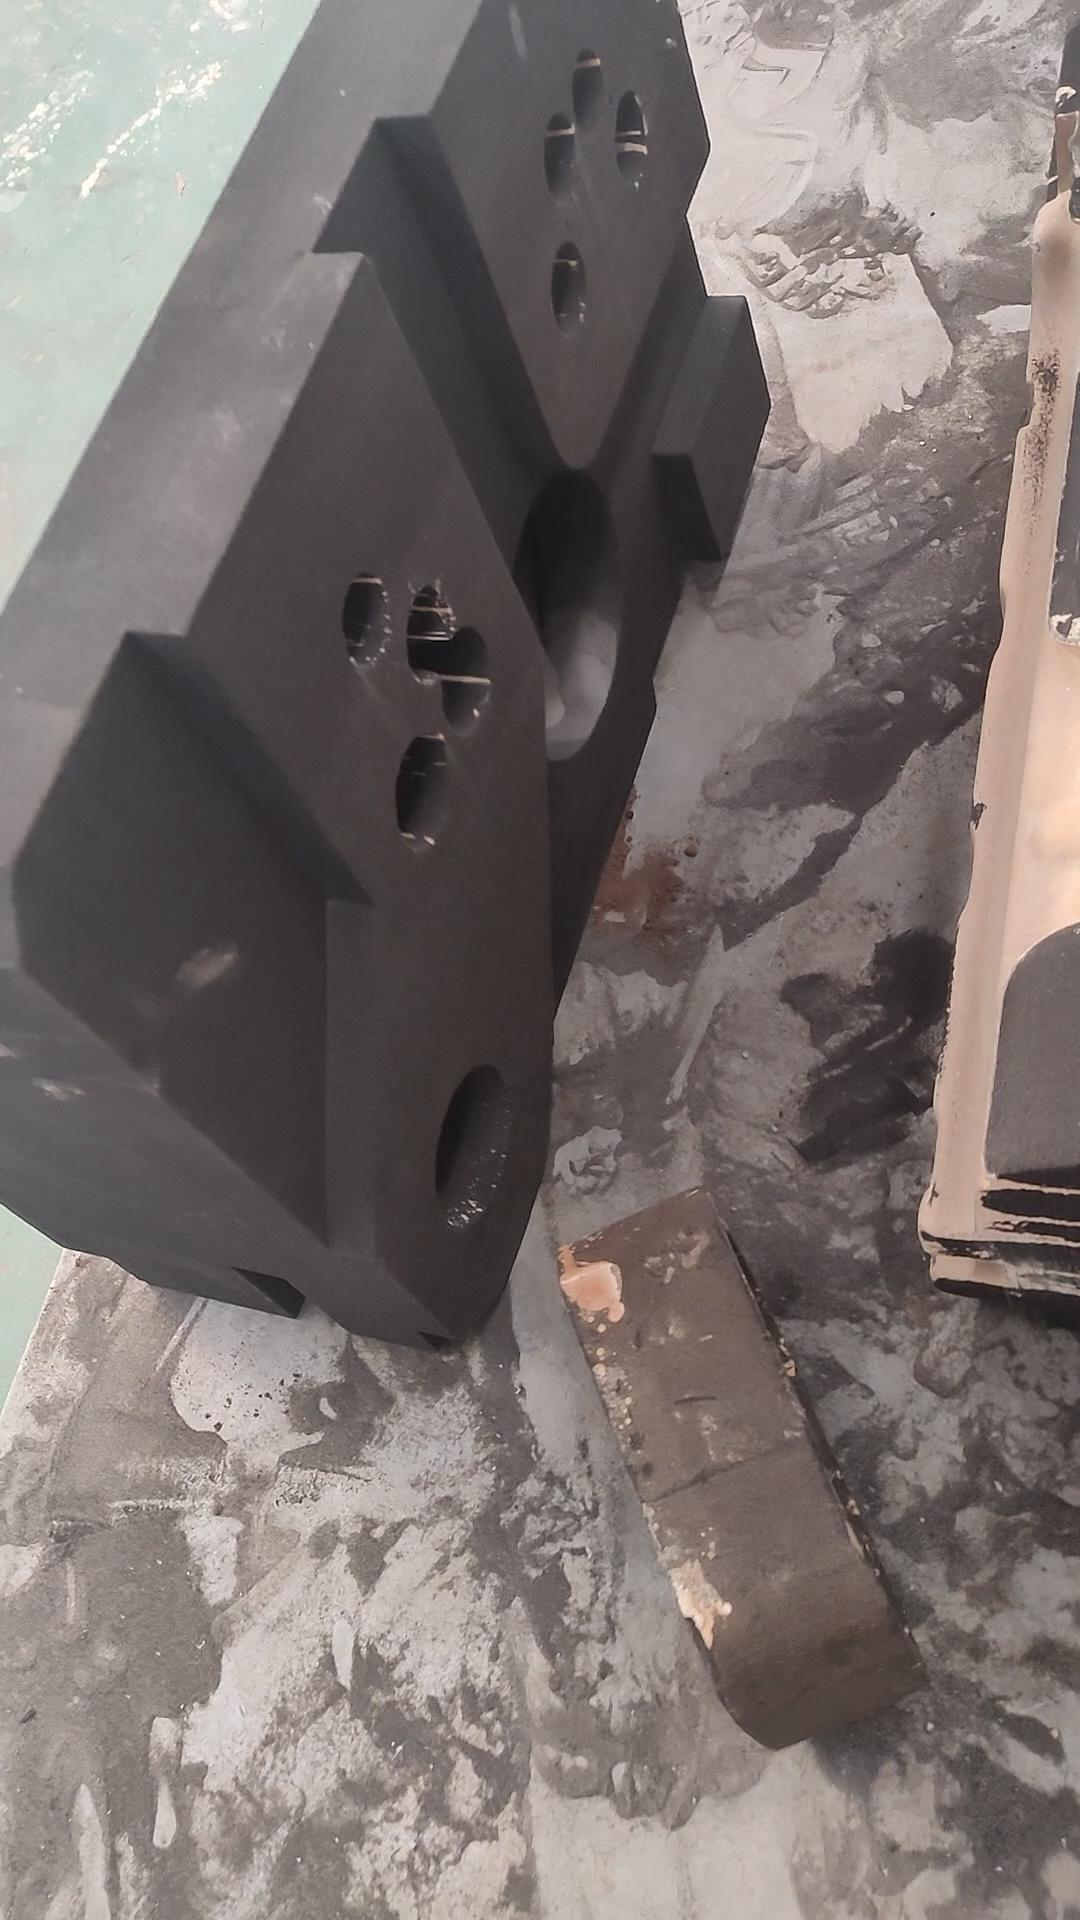pouring hole: (433, 1065, 508, 1232)
